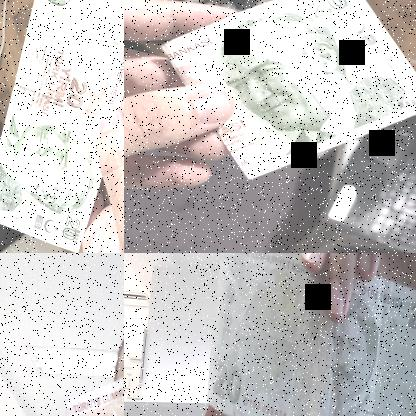5 TL: (0, 0, 123, 252)
